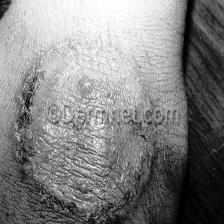Toxin: (18, 37, 156, 223)
